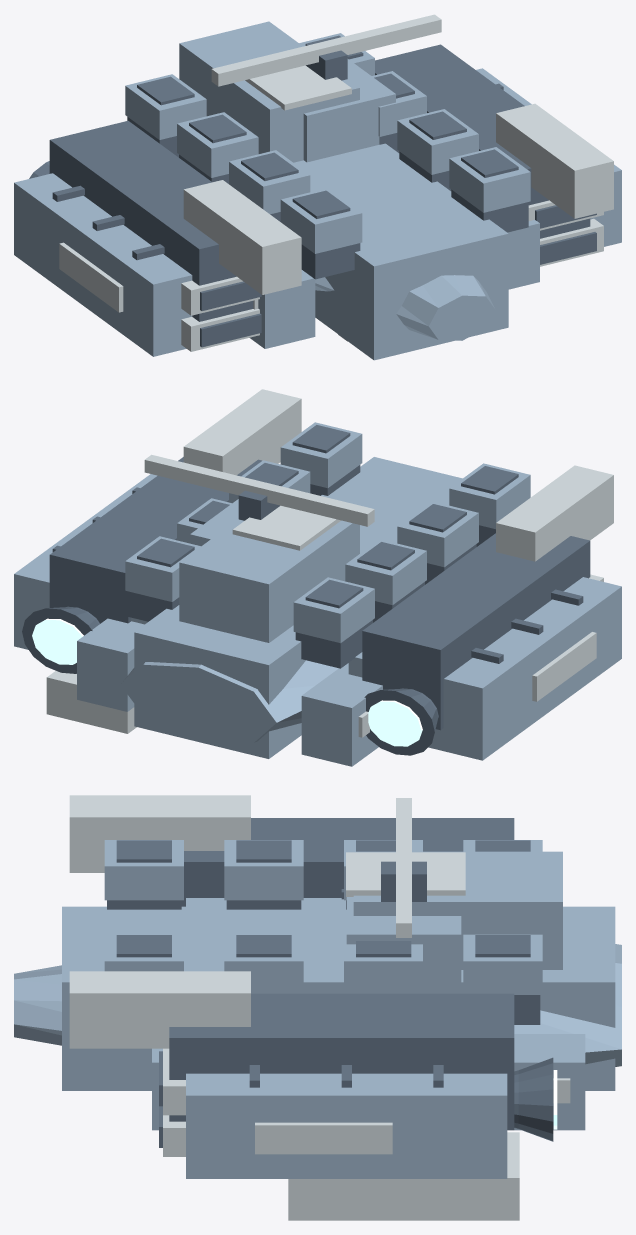
3 renders of one model, top to bottom at view 1: azimuth 30°, elevation 25°; view 2: azimuth 150°, elevation 25°; view 3: azimuth 270°, elevation 25°, orthographic. The views are drawn at different scales.
Bounding box in the file's own units: 17.02 × 7.93 × 16.27.
